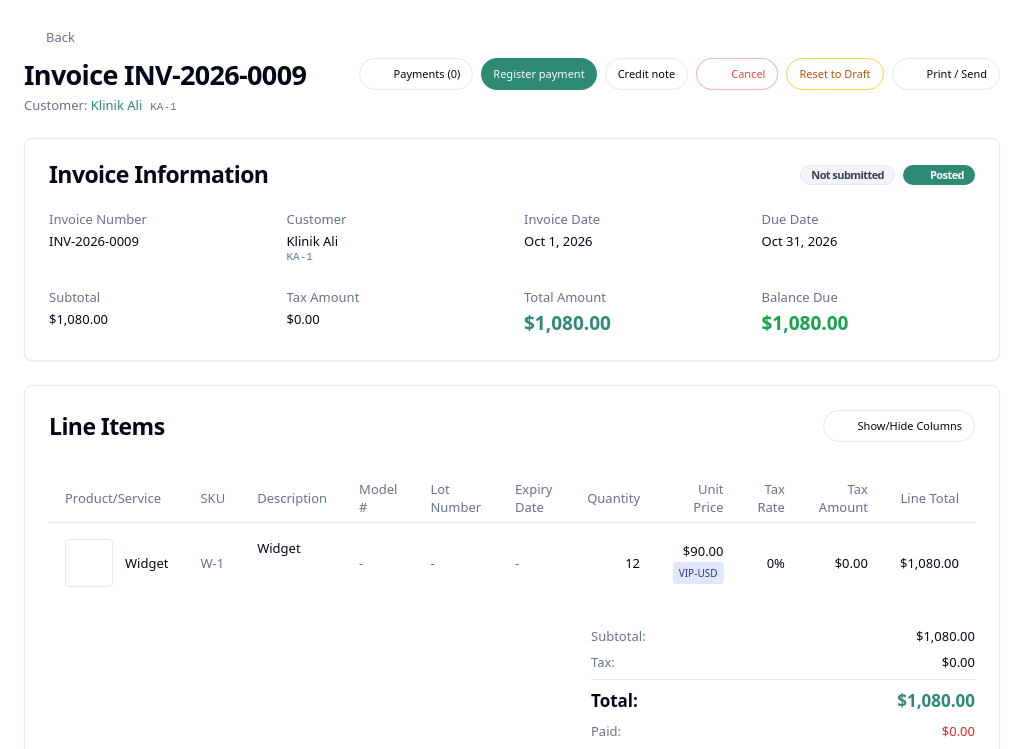
Price explanation popover on document detail pages (#342) › invoice detail explains the line price from its trace
The width and height of the screenshot is (1024, 749).
Click the button with aria-label "how this price was set: VIP-USD" at (698, 572), box [673,562,724,584]
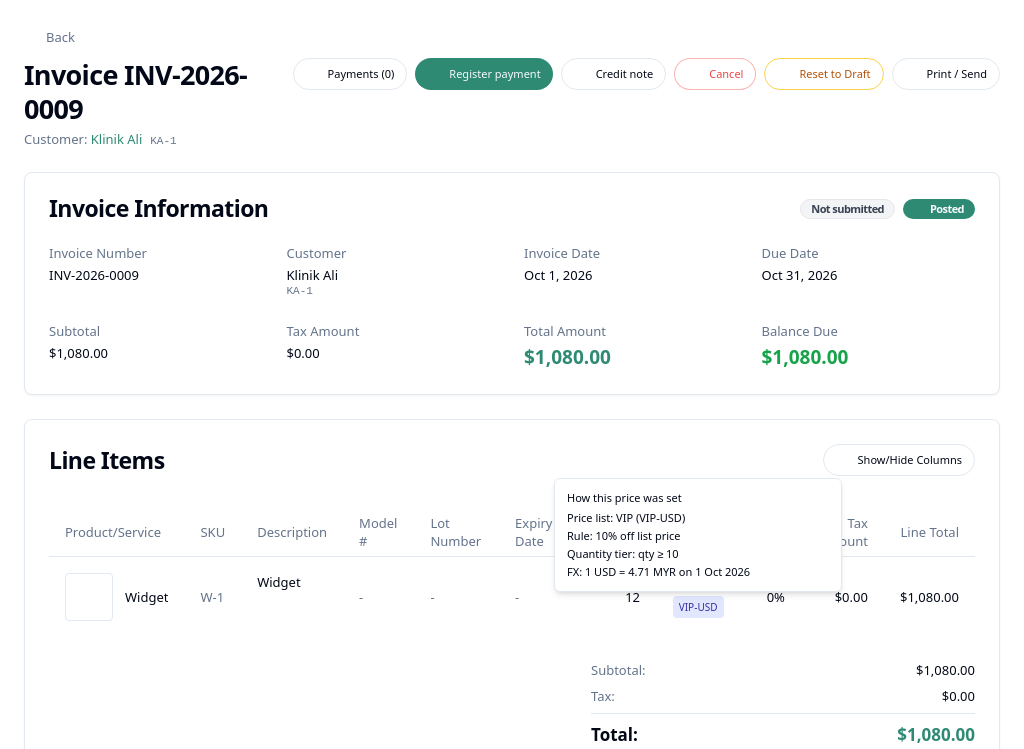
Check: the list item "Quantity tier: qty ≥ 10" is shown, box [567,546,679,561]
Check: the list item "FX: 1 USD = 4.71 MYR on 1 Oct 2026" is shown, box [567,564,750,579]
